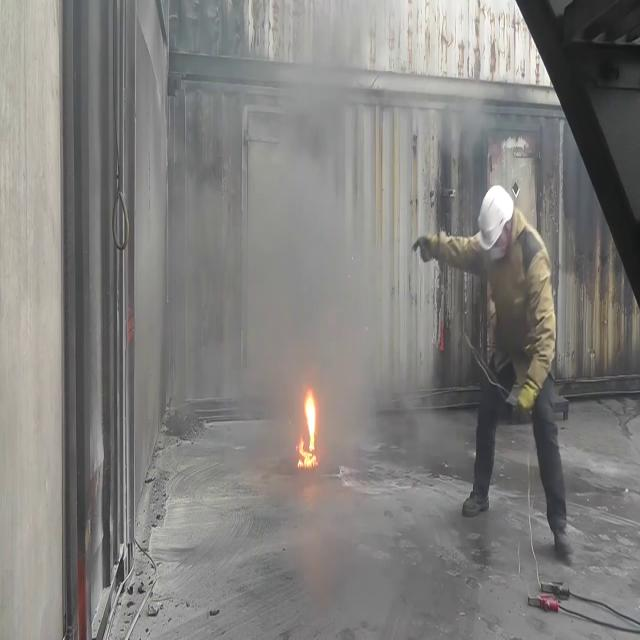Fire: (298, 385, 318, 471)
Smoke: (182, 3, 466, 441)
